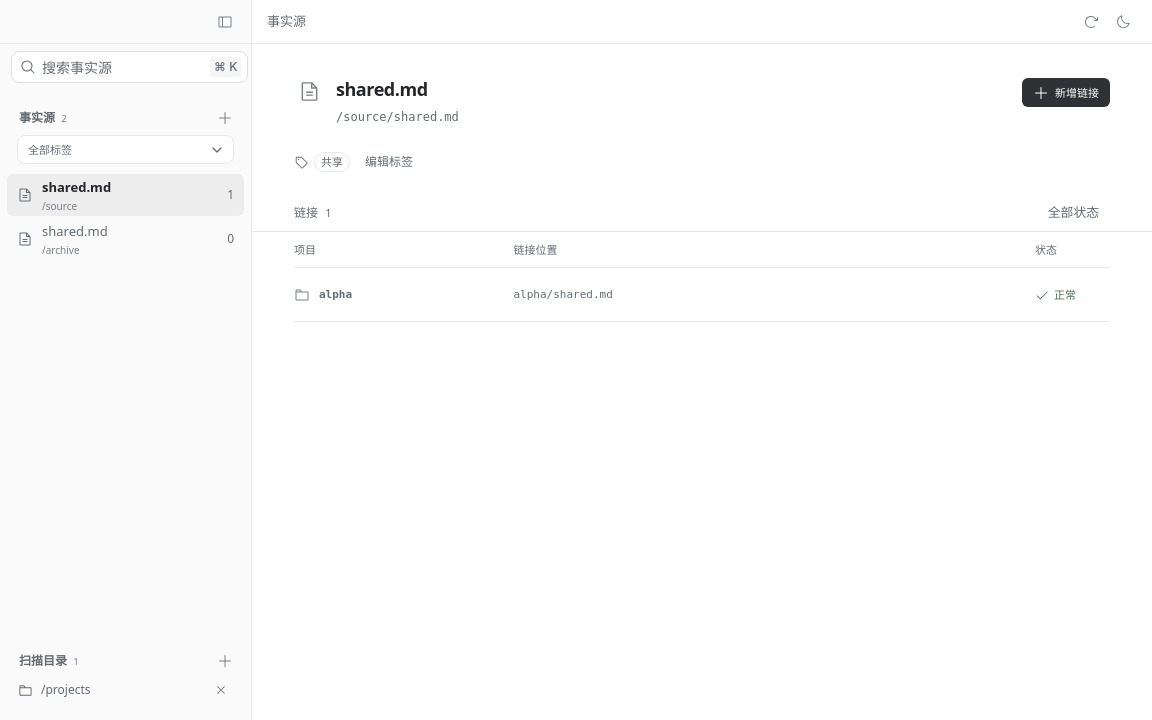
Scenario: keeps the open source identifiable when filters hide it and distinguishes duplicate names
The image size is (1152, 720).
Expected: the heading "shared.md" is shown, top-left (336, 77), bottom-right (428, 101)
Expected: the button with aria-label "打开事实源 /source/shared.md" is shown, top-left (13, 174), bottom-right (238, 216)
Type "/archive/" into the field labelled "搜索事实源" at {"x": 123, "y": 67}, box top-left (36, 51), bottom-right (210, 83)
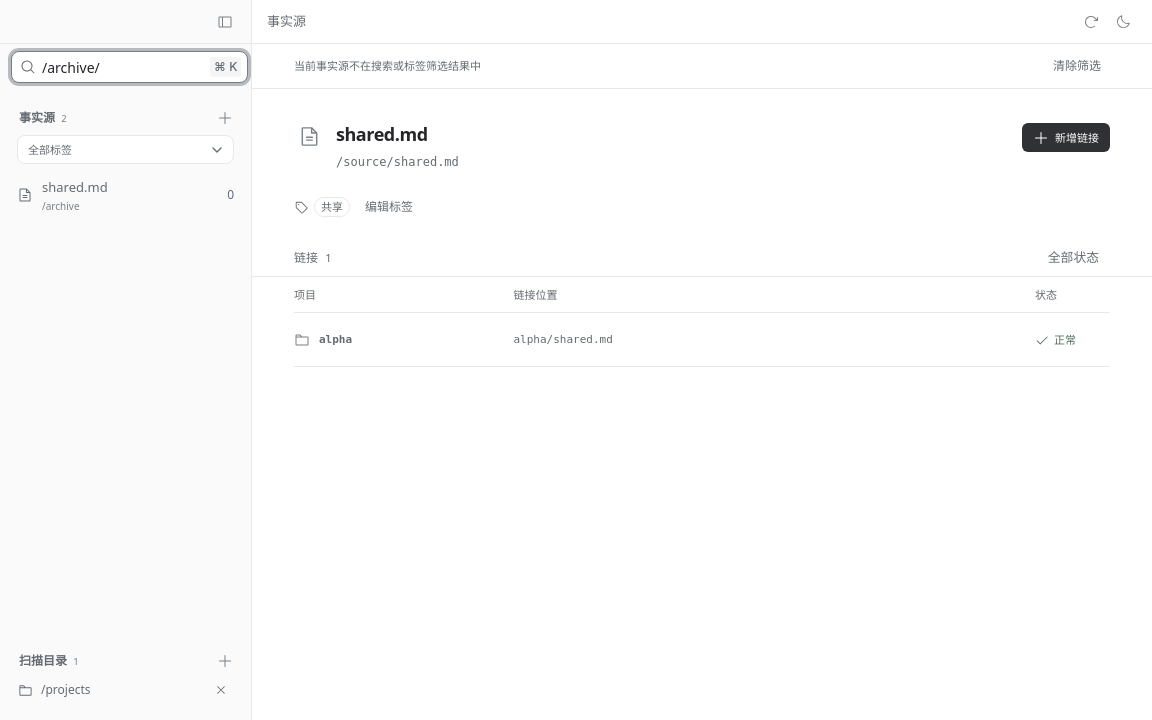
Expected: the text "当前事实源不在搜索或标签筛选结果中" is shown, top-left (294, 58), bottom-right (481, 74)
Click the button "清除筛选" at {"x": 1077, "y": 66}, box top-left (1044, 54), bottom-right (1110, 78)
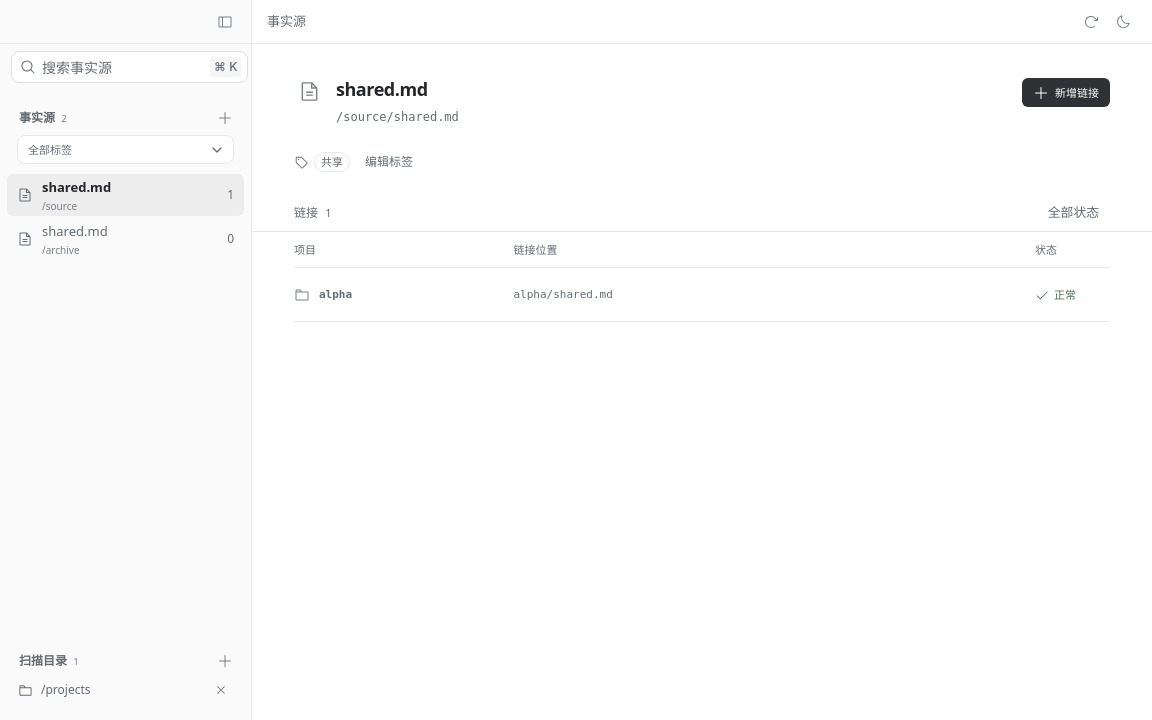
Expected: the button with aria-label "打开事实源 /source/shared.md" is shown, top-left (13, 174), bottom-right (238, 216)
